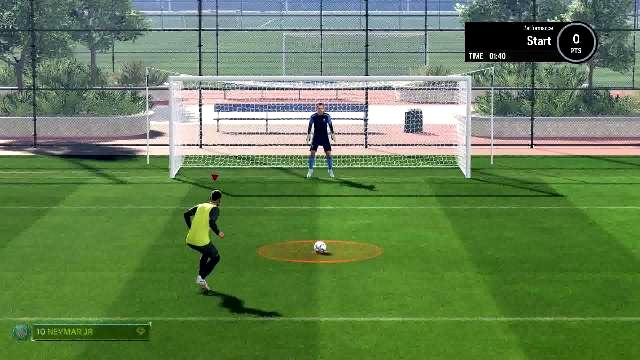bottom-left: (175, 130, 268, 178)
bottom-right: (369, 130, 466, 176)
center-down: (270, 130, 366, 176)
center-up: (272, 81, 368, 131)
circle: (256, 238, 380, 264)
football: (312, 241, 328, 253), (314, 242, 328, 254)
goalkeeper: (304, 101, 344, 179)
player: (181, 186, 229, 294)
top-left: (174, 83, 268, 131)
top-right: (366, 84, 462, 132)
